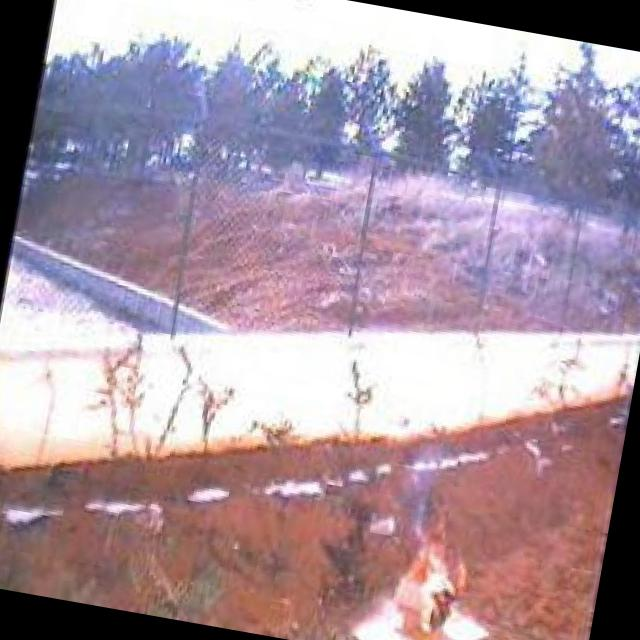Fire: (384, 491, 482, 640)
